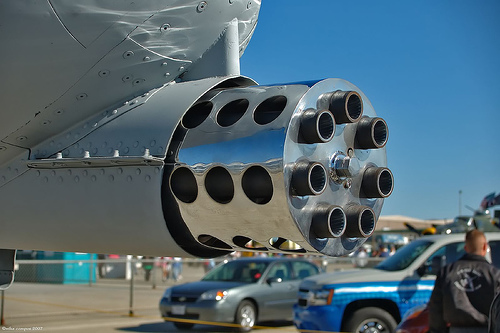rifle: (80, 53, 397, 300)
